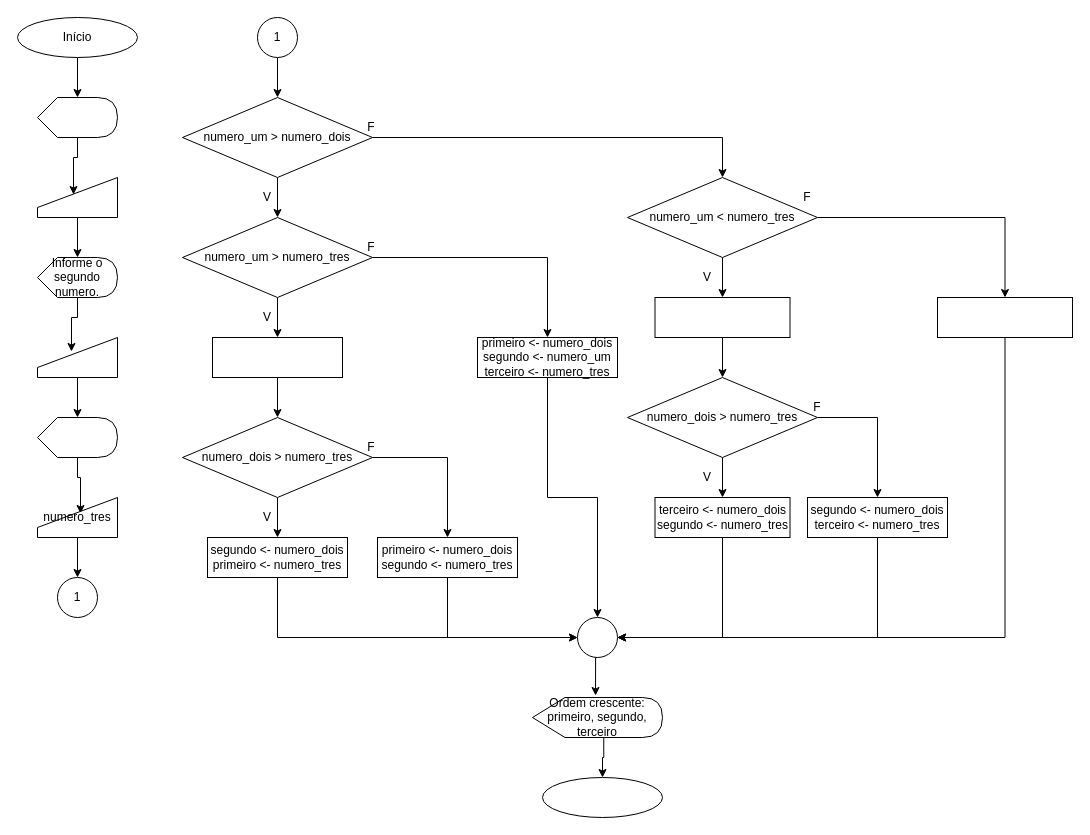
This 1090x835 diagram has some shape labels left out. Each missing label, with the centre of its shape:
"Fim" goes at (x=602, y=797).
"Informe o primeiro numero." goes at (x=77, y=117).
"Informe o terceiro numero." goes at (x=77, y=437).
"numero_dois" goes at (x=77, y=357).
"numero_um" goes at (x=77, y=197).
"primeiro <- numero_um" goes at (x=722, y=317).
"terceiro <- numero_dois segundo <- numero_um primeiro <- numero_tres" goes at (x=1004, y=317).
"terceiro <- numero_um" goes at (x=277, y=357).
